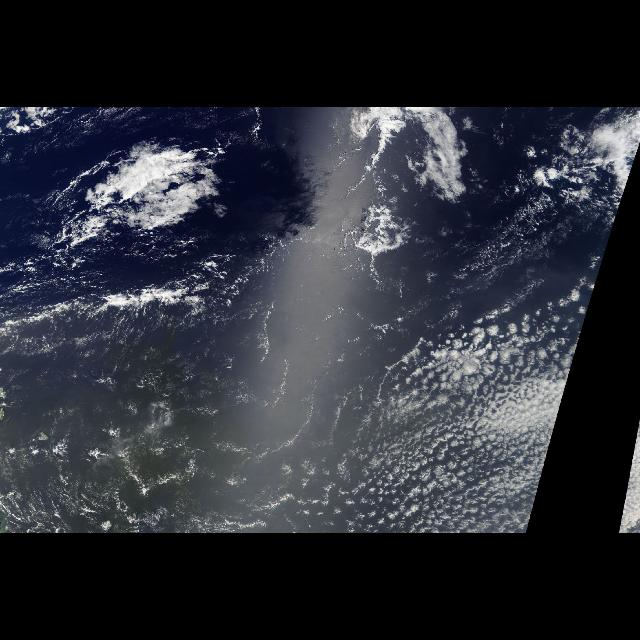Flower: (366, 325, 584, 531)
Gravel: (2, 322, 330, 532)
Sugar: (6, 350, 328, 530)
